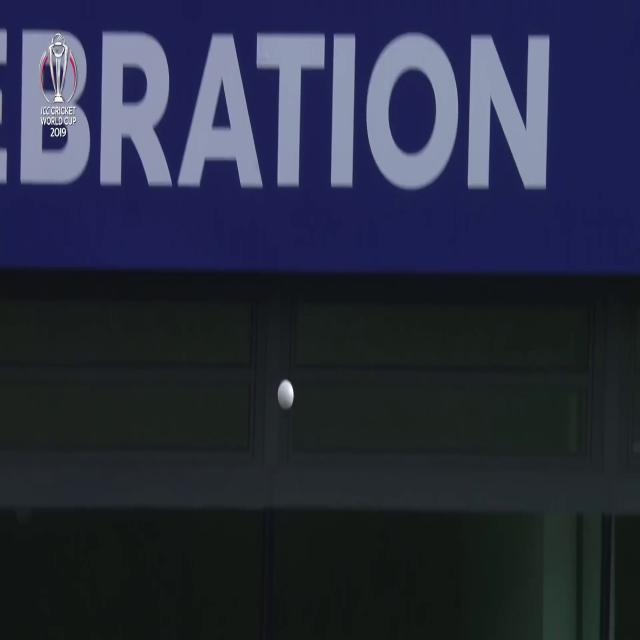ball: (274, 372, 300, 416)
